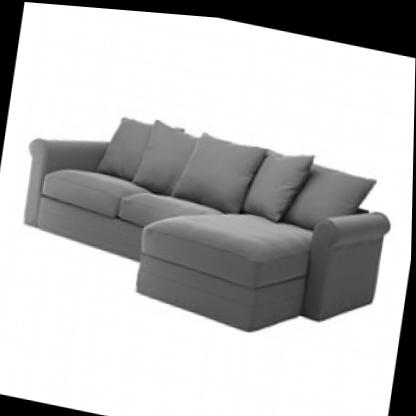Sofa: (0, 58, 411, 363)
